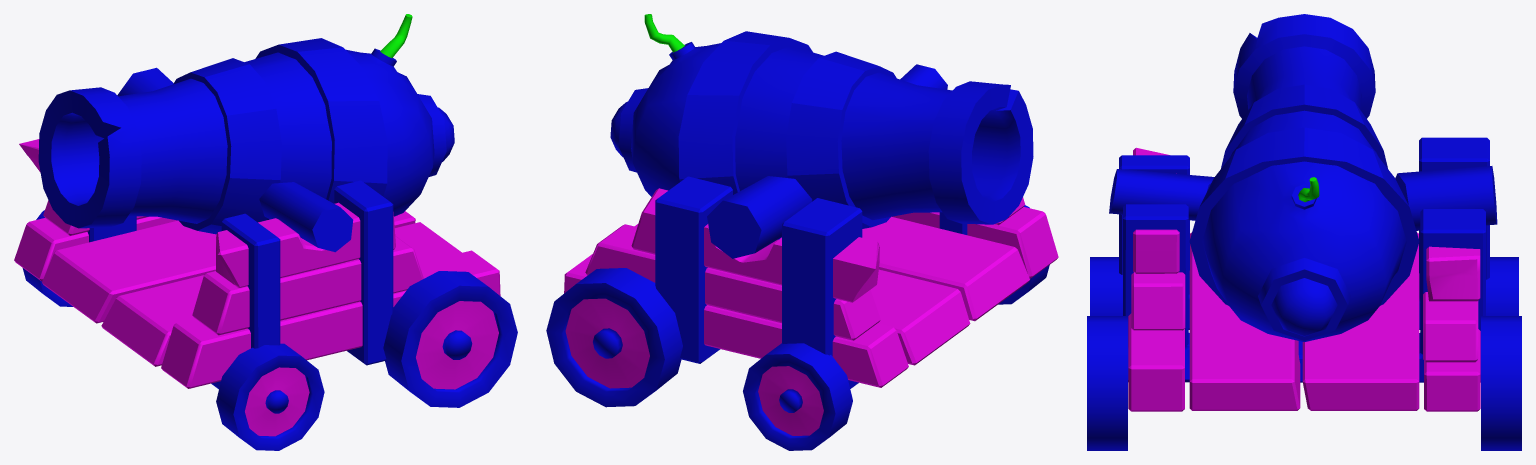
File: cannon.fbx
The picture shows the model from 3 angles, left to right: view 1: azimuth 30°, elevation 25°; view 2: azimuth 150°, elevation 25°; view 3: azimuth 270°, elevation 25°; orthographic projection.
Parts seen in each view (by area): view 1: cannon_geo; view 2: cannon_geo; view 3: cannon_geo.
Part boxes in pixels (bbox=[...]): cannon_geo: bbox=[14, 14, 517, 450]; cannon_geo: bbox=[546, 14, 1058, 450]; cannon_geo: bbox=[1087, 14, 1521, 450].
Size of the model in its own units: 413 by 307 by 403.
